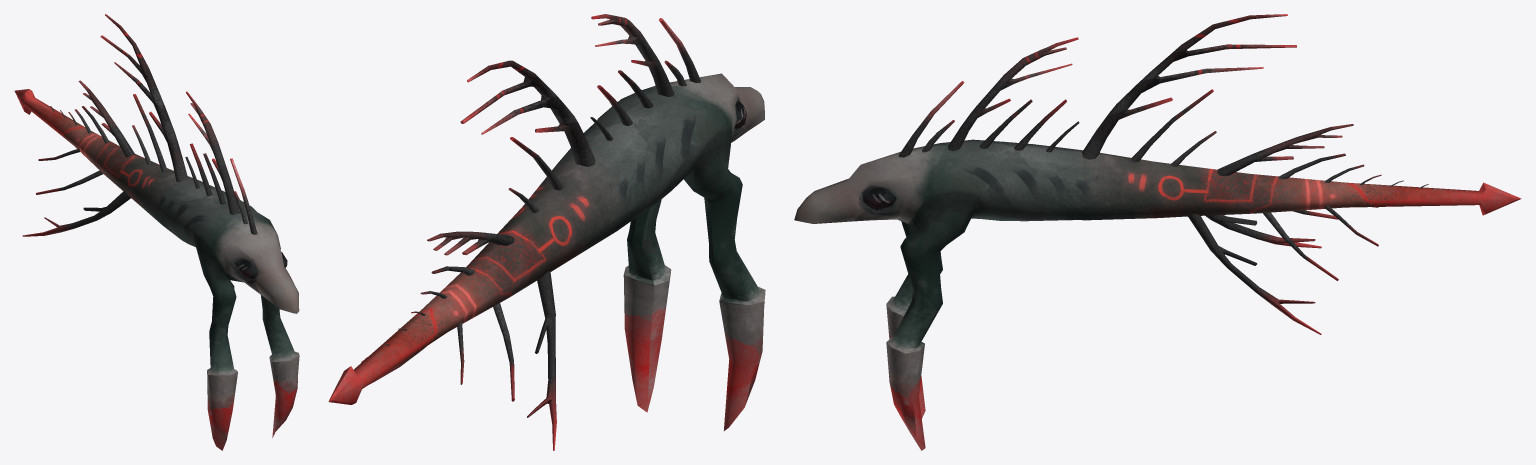
Rendered from smogviper1.fbx.
3 views of the same model, side by side, from view 1: azimuth 30°, elevation 25°; view 2: azimuth 150°, elevation 25°; view 3: azimuth 270°, elevation 25° (orthographic). The views are drawn at different scales.
Parts seen in each view (by area): view 1: Cube.001; view 2: Cube.001; view 3: Cube.001.
Boxes of the visible parts, x1=… form: Cube.001: x1=14, y1=14, x2=299, y2=450; Cube.001: x1=328, y1=14, x2=765, y2=450; Cube.001: x1=794, y1=14, x2=1521, y2=450.
Bounding box in the file's own units: 0.6503 × 1.46 × 2.28.
Materials: 1 (1 with a texture image).
